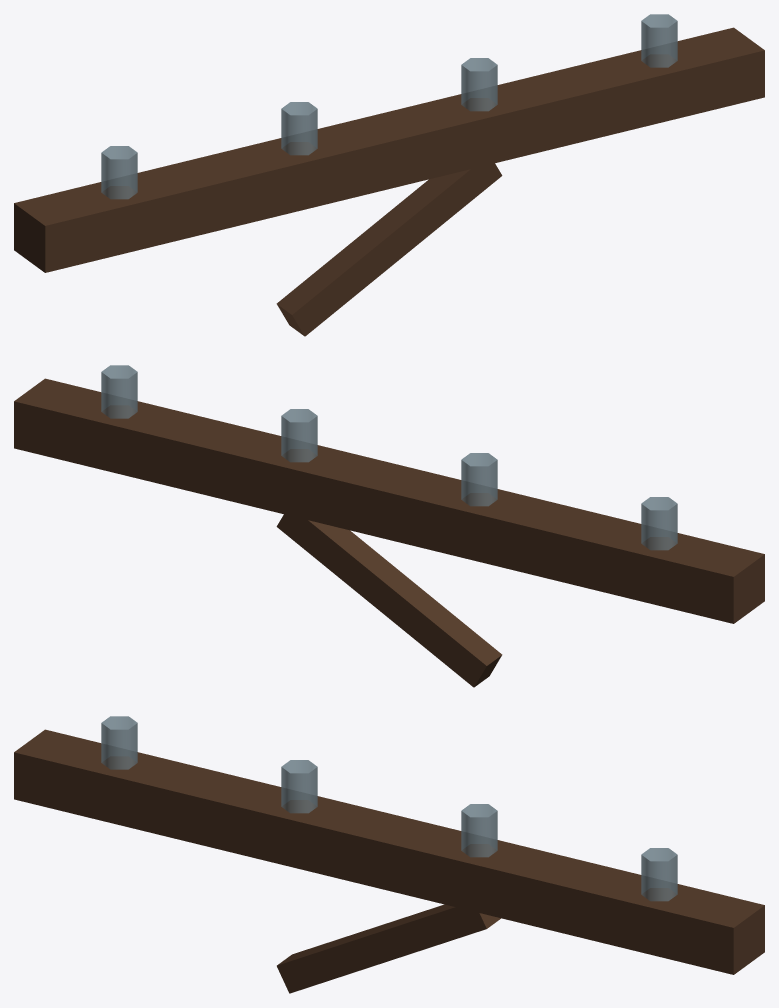
The model's file is SM_P1_Pole_Crossarm_A.obj.
3 views of the same model, one above another, from view 1: azimuth 30°, elevation 25°; view 2: azimuth 150°, elevation 25°; view 3: azimuth 330°, elevation 25° (orthographic).
Visible parts, largest first — view 1: arm_body, brace, insulator_0, insulator_1, insulator_2, insulator_3; view 2: arm_body, brace, insulator_0, insulator_1, insulator_2, insulator_3; view 3: arm_body, brace, insulator_3, insulator_2, insulator_0, insulator_1.
Part boxes in pixels (x1=…): arm_body: x1=14, y1=27, x2=764, y2=272; brace: x1=276, y1=163, x2=502, y2=336; insulator_0: x1=101, y1=146, x2=137, y2=199; insulator_1: x1=281, y1=102, x2=317, y2=155; insulator_2: x1=461, y1=58, x2=497, y2=111; insulator_3: x1=641, y1=14, x2=677, y2=67; arm_body: x1=14, y1=378, x2=764, y2=623; brace: x1=276, y1=514, x2=502, y2=687; insulator_0: x1=641, y1=497, x2=677, y2=550; insulator_1: x1=461, y1=453, x2=497, y2=506; insulator_2: x1=281, y1=409, x2=317, y2=462; insulator_3: x1=101, y1=365, x2=137, y2=418; arm_body: x1=14, y1=729, x2=764, y2=974; brace: x1=277, y1=904, x2=500, y2=993; insulator_3: x1=641, y1=848, x2=677, y2=901; insulator_2: x1=461, y1=804, x2=497, y2=857; insulator_0: x1=101, y1=716, x2=137, y2=769; insulator_1: x1=281, y1=760, x2=317, y2=813.
Size of the model in its own units: 1.6 by 0.4712 by 0.12.
